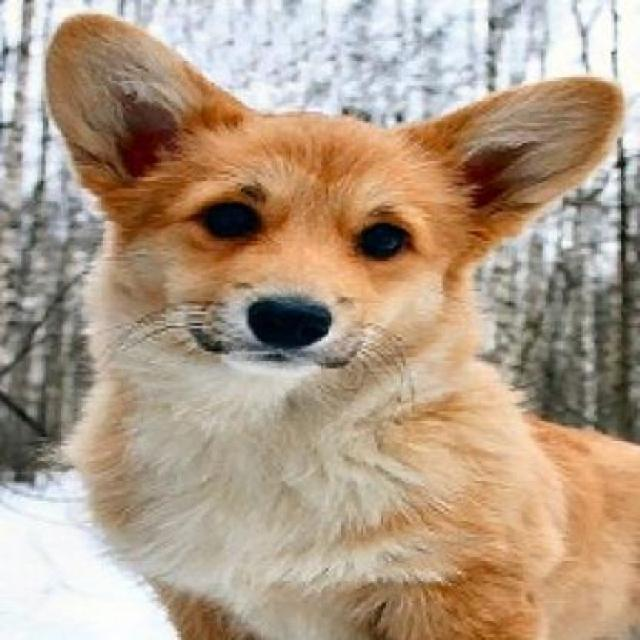Dog: (43, 9, 639, 638)
